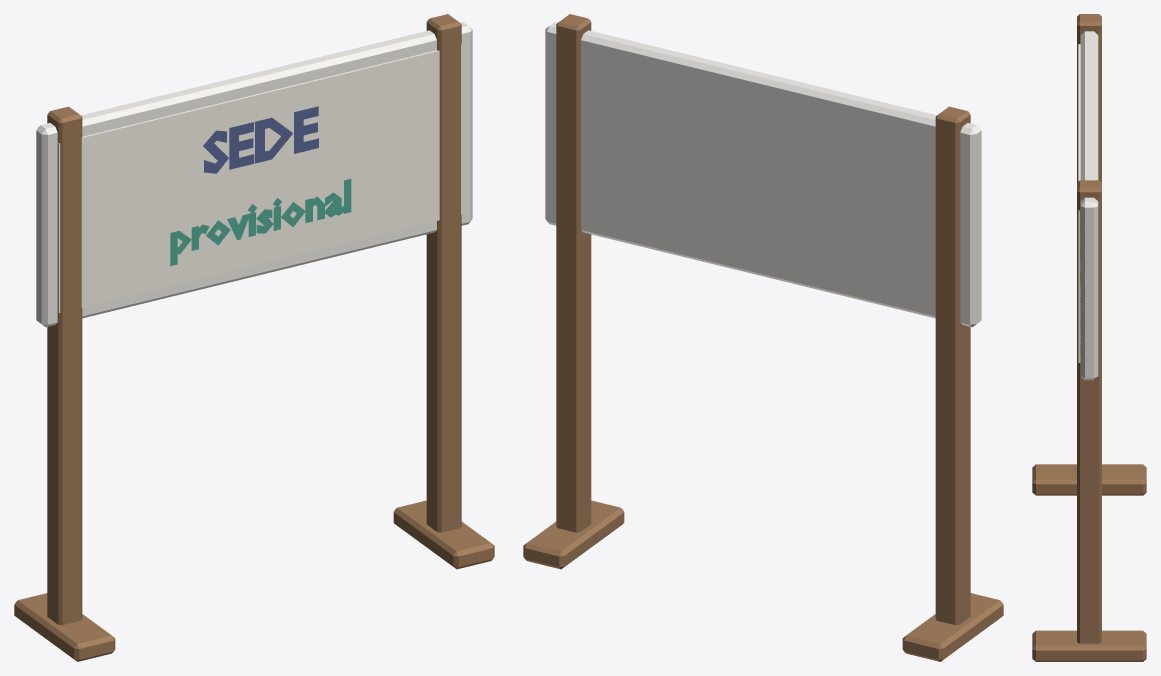
File: prop_sign_hq_01.glb
3 views of the same model, side by side, from view 1: azimuth 30°, elevation 25°; view 2: azimuth 150°, elevation 25°; view 3: azimuth 270°, elevation 25° (orthographic). The views are drawn at different scales.
Visible parts, largest first — view 1: prop_sign_hq_01_body; view 2: prop_sign_hq_01_body; view 3: prop_sign_hq_01_body.
Boxes of the visible parts, x1,y1,x2,y2 form: prop_sign_hq_01_body: [14, 14, 494, 661]; prop_sign_hq_01_body: [523, 14, 1003, 661]; prop_sign_hq_01_body: [1032, 14, 1146, 661].
Bounding box in the file's own units: 1.25 × 1.45 × 0.32.
